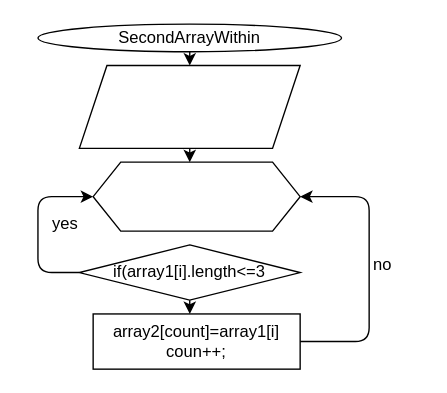
The diagram is 447 pixels wide and 393 high, and some of its shapes have lost their labels. The shapes that lost their labels are listed below. From the top down, each one's centre as x and y in pixels, then its label:
pixel 189 106: string[] array1 string array2 int count=0
pixel 196 196: for (int i=0; i<array1.length; i++)
